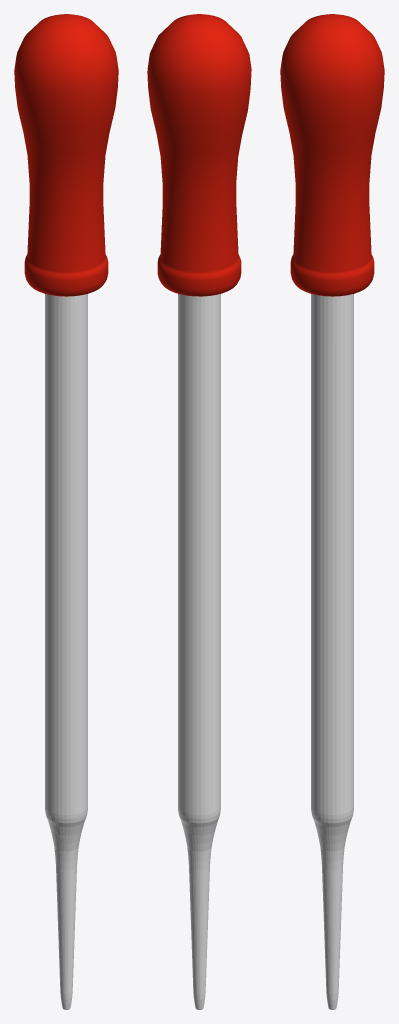
Rendered from glassDropper.glb.
The picture shows the model from 3 angles, left to right: view 1: azimuth 90°, elevation 25°; view 2: azimuth 150°, elevation 25°; view 3: azimuth 270°, elevation 25°; orthographic projection.
Parts seen in each view (by area): view 1: dropper, rubber_head; view 2: dropper, rubber_head; view 3: dropper, rubber_head.
Part boxes in pixels (x1,y1,x2,y2): dropper: (45, 294, 87, 1009); rubber_head: (14, 14, 118, 296); dropper: (178, 294, 220, 1009); rubber_head: (147, 14, 251, 296); dropper: (311, 294, 353, 1009); rubber_head: (280, 14, 384, 296).
Bounding box in the file's own units: 0.1205 × 1.26 × 0.1205.
